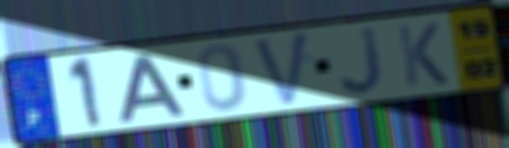0: (194, 41, 251, 115)
1: (66, 54, 105, 132)
A: (117, 52, 188, 124)
J: (337, 24, 389, 97)
K: (393, 20, 452, 89)
V: (250, 28, 312, 110)
